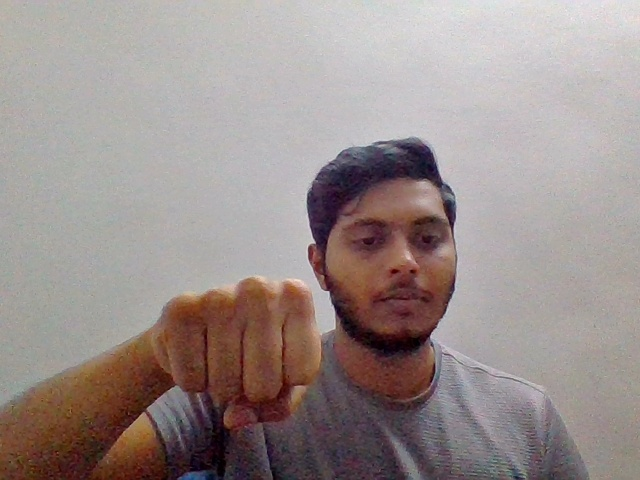Yes: (145, 271, 326, 434)
